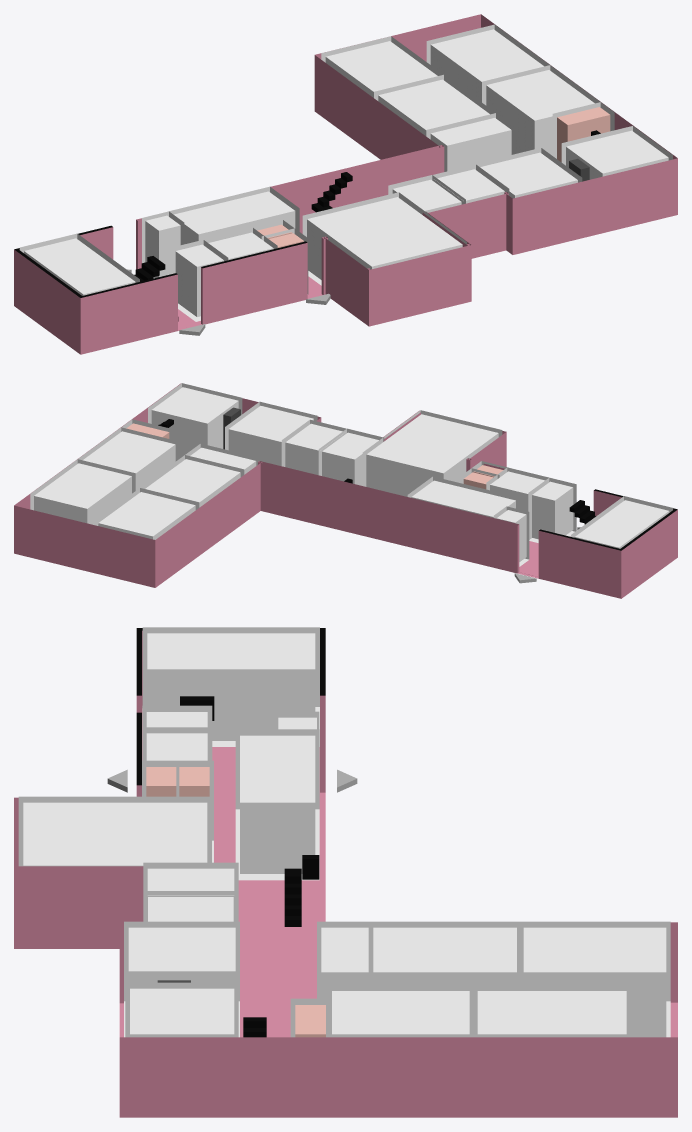
The picture shows the model from 3 angles, top to bottom: view 1: azimuth 30°, elevation 25°; view 2: azimuth 150°, elevation 25°; view 3: azimuth 270°, elevation 25°; orthographic projection. The views are drawn at different scales.
Parts seen in each view (by area): view 1: object, room_4_2_1, room_4_2_9, room_4_2_10, room_4_2_12, room_4_2_8, room_4_2_7, room_4_2_14, room_4_2_5, room_4_2_6, room_4_2_4, room_4_2_13 (+18 smaller); view 2: object, room_4_2_1, room_4_2_10, room_4_2_5, room_4_2_4, room_4_2_9, room_4_2_8, room_4_2_7, room_4_2_14, room_4_2_13, room_4_2_12, room_4_2_2 (+18 smaller); view 3: object, room_4_2_14, room_4_2_1, room_4_2_8, room_4_2_12, room_4_2_7, room_4_2_10, room_4_2_9, room_4_2_4, room_4_2_5, room_4_2_6, room_4_2_2 (+19 smaller).
Part boxes in pixels (<box>): object: <box>14,14,677,354</box>; room_4_2_1: <box>307,197,462,279</box>; room_4_2_9: <box>486,70,594,155</box>; room_4_2_10: <box>430,29,543,102</box>; room_4_2_12: <box>174,191,295,244</box>; room_4_2_8: <box>325,41,437,97</box>; room_4_2_7: <box>378,79,489,135</box>; room_4_2_14: <box>24,238,135,295</box>; room_4_2_5: <box>566,130,668,179</box>; room_4_2_6: <box>430,118,511,171</box>; room_4_2_4: <box>480,152,577,198</box>; room_4_2_13: <box>175,244,223,316</box>; object: <box>14,383,677,598</box>; room_4_2_1: <box>366,414,498,496</box>; room_4_2_10: <box>34,463,131,524</box>; room_4_2_5: <box>151,387,238,458</box>; room_4_2_4: <box>228,405,313,466</box>; room_4_2_9: <box>83,431,175,490</box>; room_4_2_8: <box>98,492,195,539</box>; room_4_2_7: <box>145,459,240,507</box>; room_4_2_14: <box>574,500,669,548</box>; room_4_2_13: <box>532,481,573,539</box>; room_4_2_12: <box>411,480,515,517</box>; room_4_2_2: <box>322,432,378,485</box>; object: <box>14,628,677,1117</box>; room_4_2_14: <box>147,633,315,740</box>; room_4_2_1: <box>23,802,207,866</box>; room_4_2_8: <box>523,927,666,1037</box>; room_4_2_12: <box>240,735,315,873</box>; room_4_2_7: <box>373,927,516,984</box>; room_4_2_10: <box>477,991,626,1037</box>; room_4_2_9: <box>332,991,469,1037</box>; room_4_2_4: <box>128,927,235,982</box>; room_4_2_5: <box>130,988,234,1037</box>; room_4_2_6: <box>321,927,368,998</box>; room_4_2_2: <box>147,868,234,921</box>.
Size of the model in its own units: 2.89 by 0.277 by 1.98.
